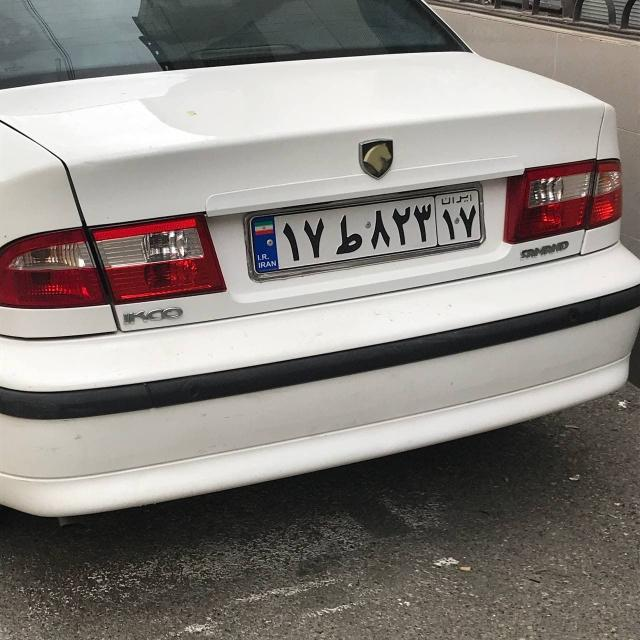Plates: (249, 185, 484, 273)
